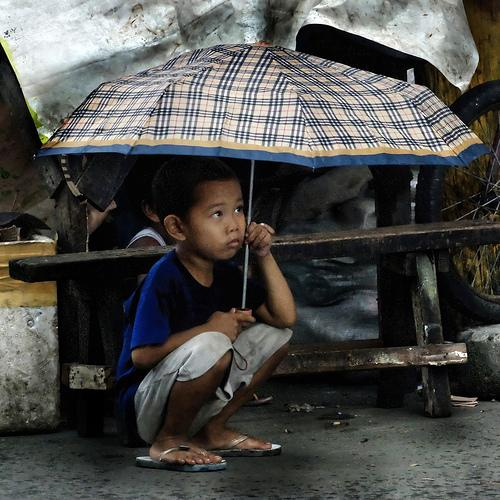person: (116, 161, 297, 468)
